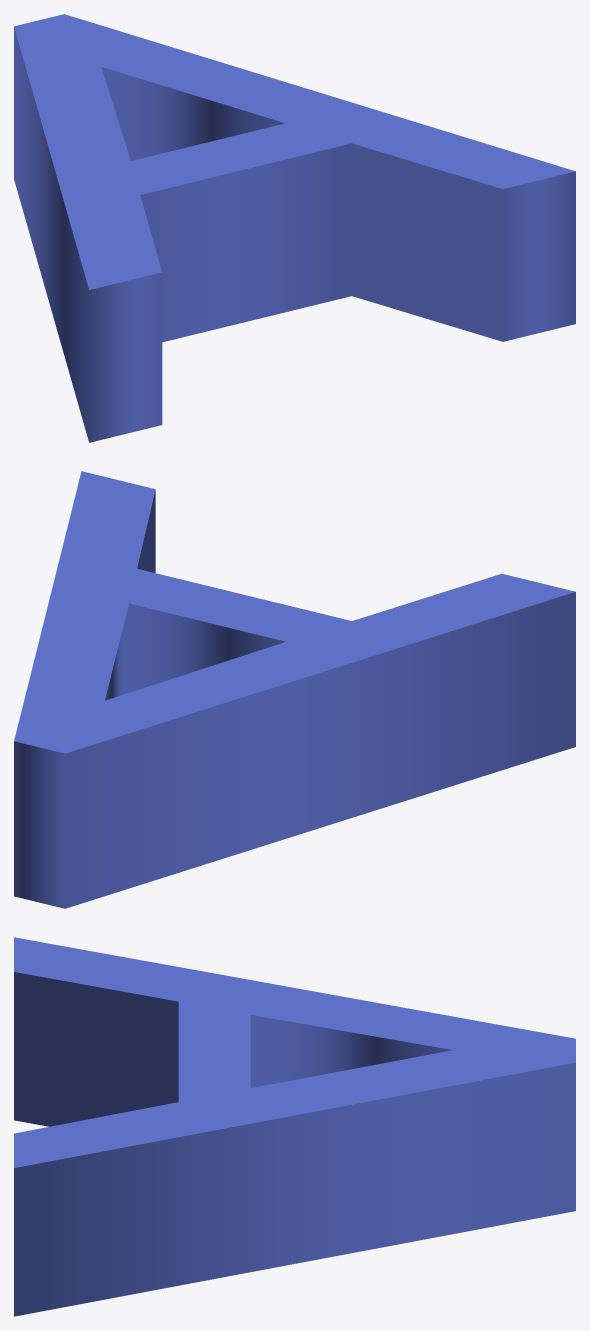
The model's file is A_blue.gltf.
3 views of the same model, one above another, from view 1: azimuth 30°, elevation 25°; view 2: azimuth 150°, elevation 25°; view 3: azimuth 270°, elevation 25° (orthographic). The views are drawn at different scales.
Visible parts, largest first — view 1: A; view 2: A; view 3: A.
Part boxes in pixels (x1,y1,x2,y2): A: (14, 14, 575, 442); A: (14, 471, 575, 908); A: (14, 937, 575, 1316).
Size of the model in its own units: 0.1668 by 0.05 by 0.1715.
